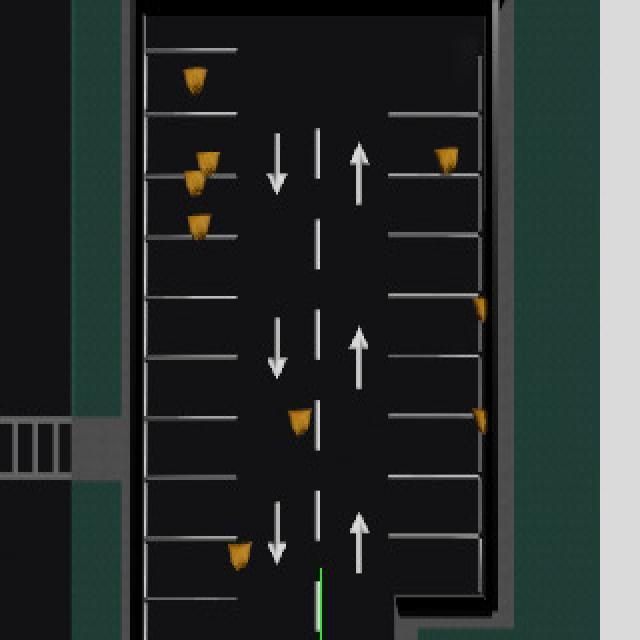garbage-trXY: (285, 408, 313, 437), (192, 149, 221, 175), (186, 211, 214, 237), (226, 542, 252, 570), (181, 66, 206, 94), (469, 290, 490, 321), (432, 148, 461, 170), (182, 172, 205, 196), (470, 403, 489, 432)
